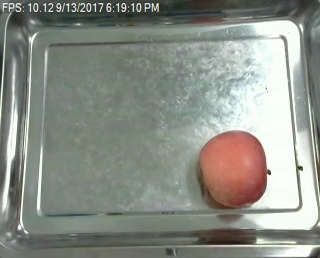Apple: (195, 129, 270, 210)
